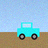vehicle: (17, 22, 39, 39)
